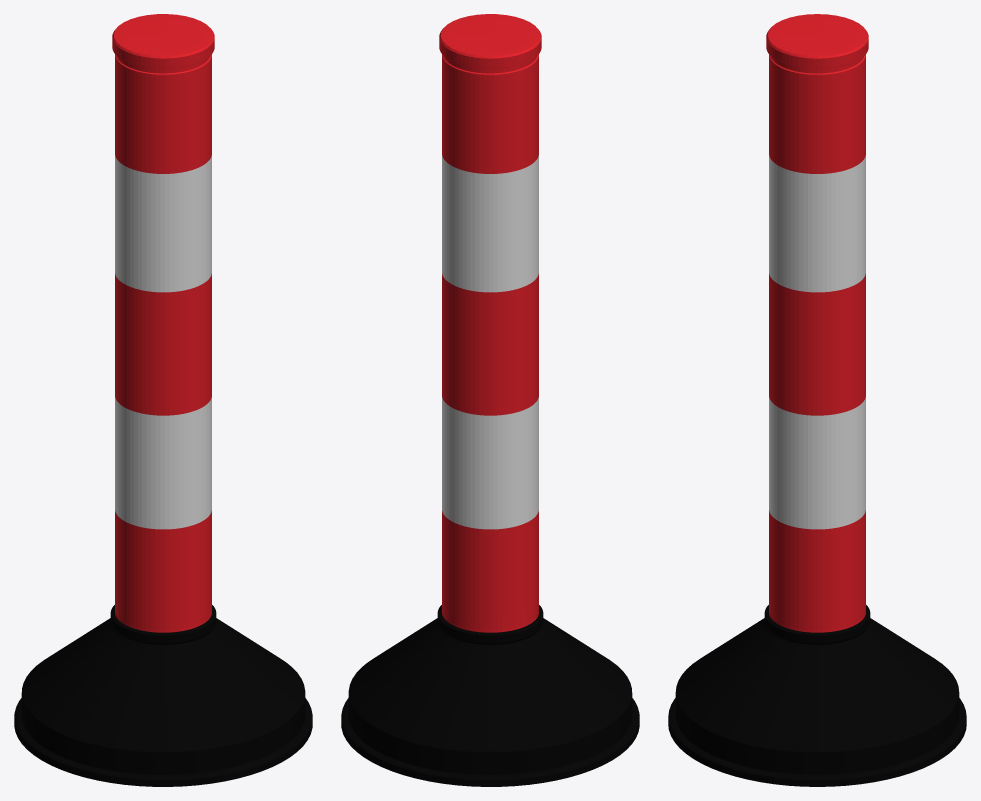
File: Traffic_post (1).fbx
3 renders of one model, left to right at view 1: azimuth 30°, elevation 25°; view 2: azimuth 150°, elevation 25°; view 3: azimuth 270°, elevation 25°, orthographic.
Visible parts, largest first — view 1: Cylinder; view 2: Cylinder; view 3: Cylinder.
Boxes of the visible parts, x1=… form: Cylinder: x1=14, y1=14, x2=312, y2=786; Cylinder: x1=341, y1=14, x2=639, y2=786; Cylinder: x1=668, y1=14, x2=966, y2=786.
Bounding box in the file's own units: 209 × 534 × 209.
